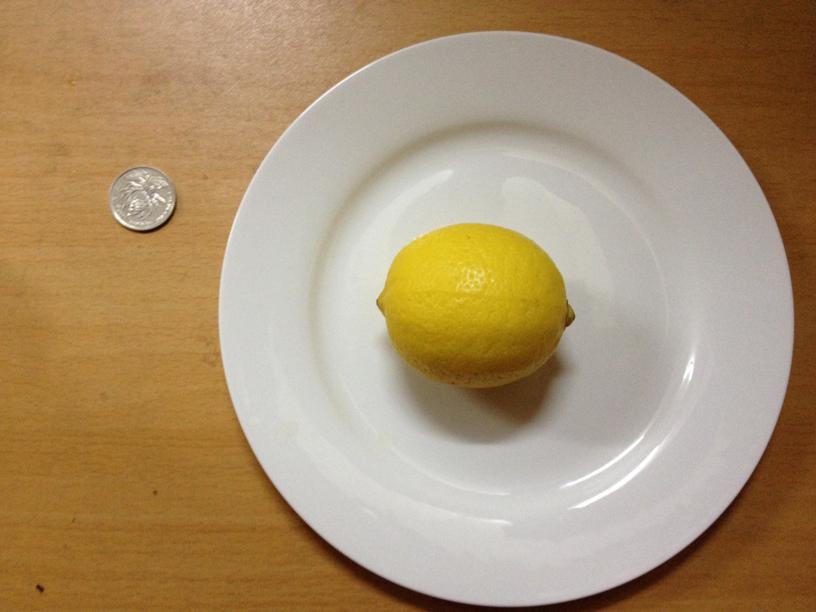coin: (106, 163, 177, 231)
lemon: (379, 221, 570, 390)
